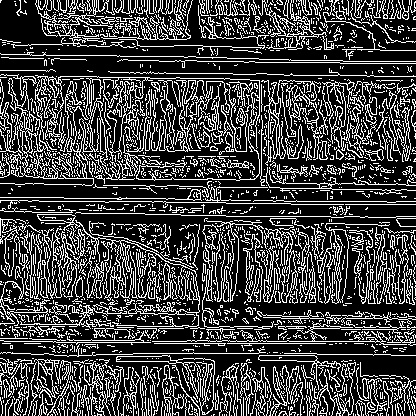buddha-sleeping: (189, 114, 231, 150), (336, 127, 384, 158)
buddha-standing: (320, 231, 342, 303), (302, 364, 324, 416), (161, 364, 175, 415)
